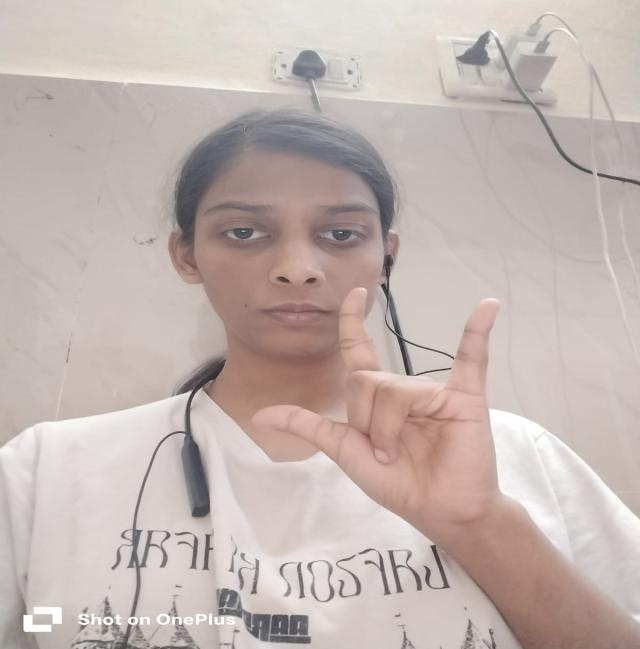I Love You: (243, 281, 521, 549)
